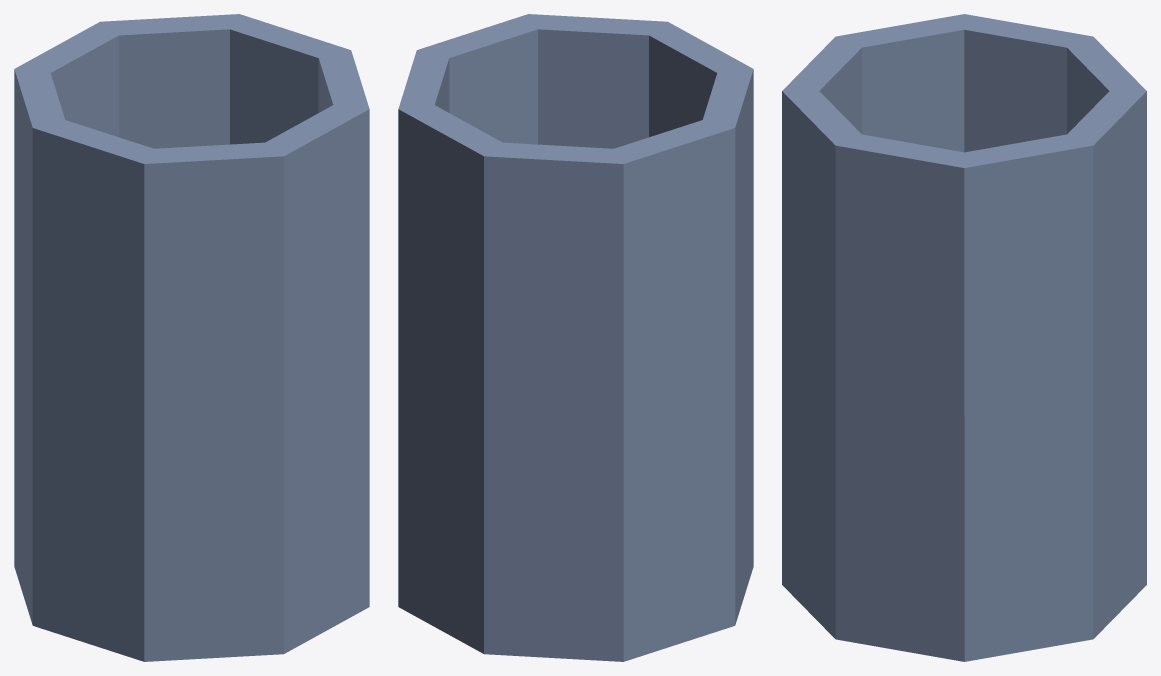
File: ToothbrushCup_07.fbx
The picture shows the model from 3 angles, left to right: view 1: azimuth 30°, elevation 25°; view 2: azimuth 150°, elevation 25°; view 3: azimuth 270°, elevation 25°; orthographic projection.
Visible parts, largest first — view 1: ToothbrushCup_07; view 2: ToothbrushCup_07; view 3: ToothbrushCup_07.
Part boxes in pixels (<box>): ToothbrushCup_07: <box>14,14,369,661</box>; ToothbrushCup_07: <box>398,14,753,661</box>; ToothbrushCup_07: <box>782,14,1146,661</box>.
Size of the model in its own units: 10.39 by 15.52 by 10.39.
